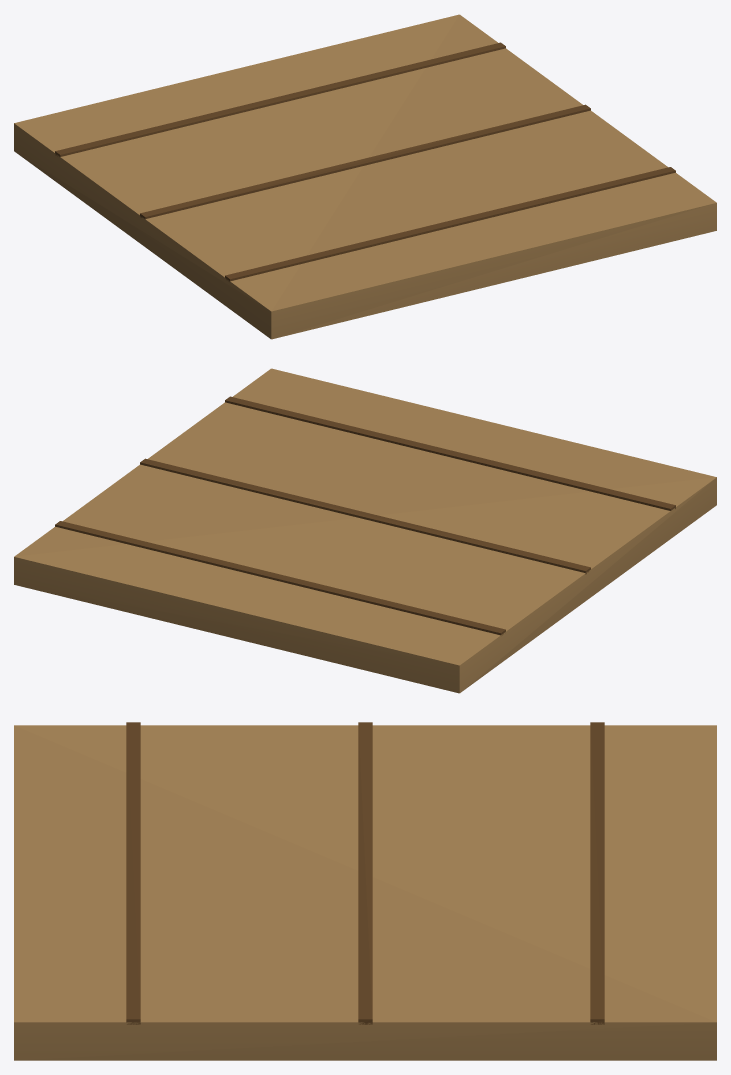
The model's file is floor-wood.glb.
3 renders of one model, top to bottom at view 1: azimuth 30°, elevation 25°; view 2: azimuth 150°, elevation 25°; view 3: azimuth 270°, elevation 25°, orthographic. The views are drawn at different scales.
Visible parts, largest first — view 1: floor_wood; view 2: floor_wood; view 3: floor_wood.
Part boxes in pixels (box(x1,y1,x2,y2)): floor_wood: box(14, 14, 716, 339); floor_wood: box(14, 368, 716, 693); floor_wood: box(14, 722, 716, 1060).
Bounding box in the file's own units: 1 × 0.0645 × 1.
